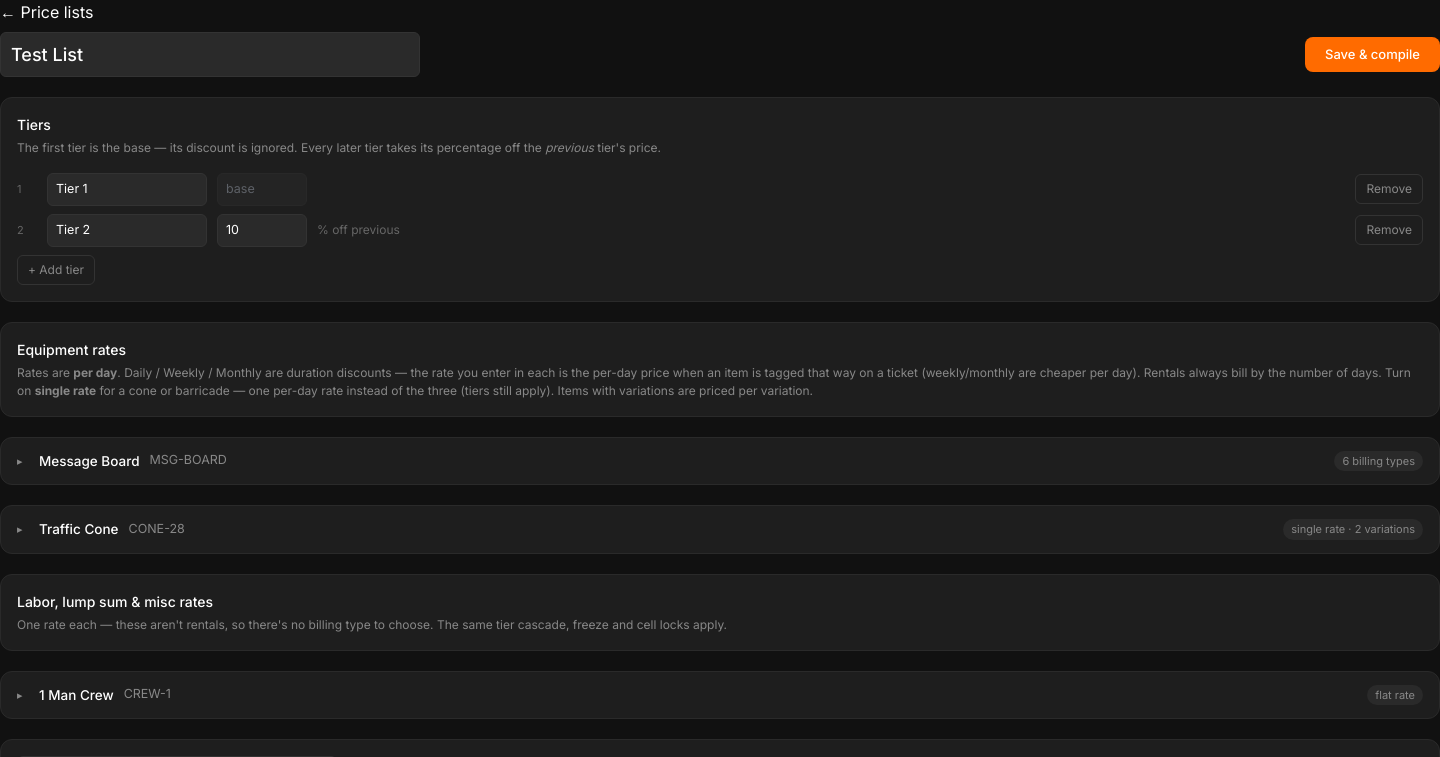
Test: price-list editor — collapse + single-rate + per-variation grids › collapses items by default: no rate inputs until you open one
Click the text "MSG-BOARD": x=188, y=461 [150, 451, 227, 470]
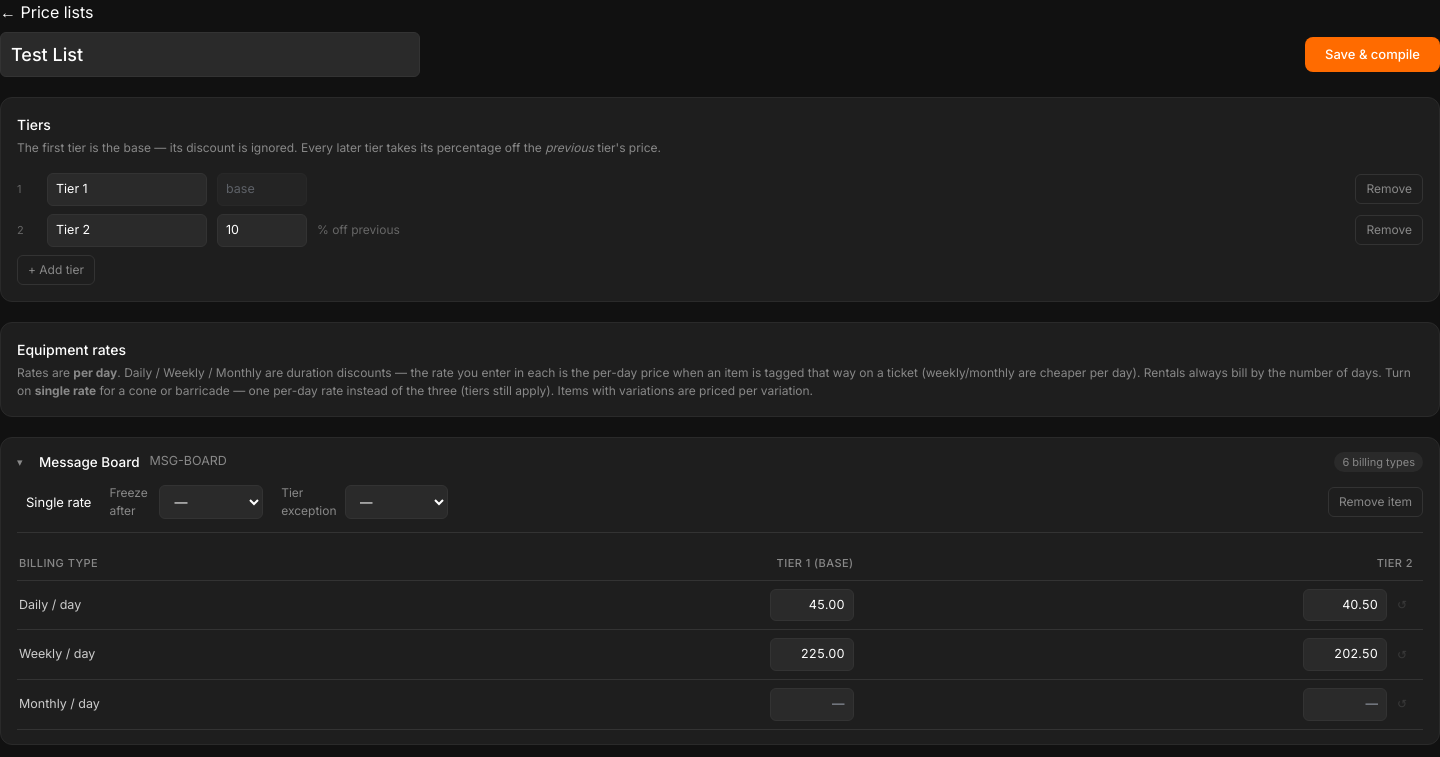
Result: the field named "MSG-BOARD daily base" is shown at [770, 588, 854, 621]
